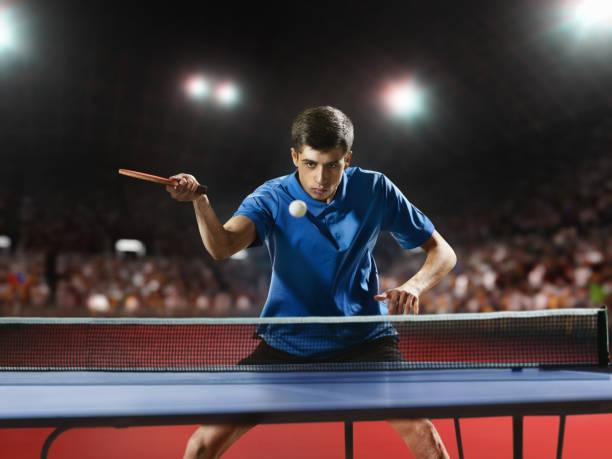ball_pingpong: (286, 199, 307, 217)
